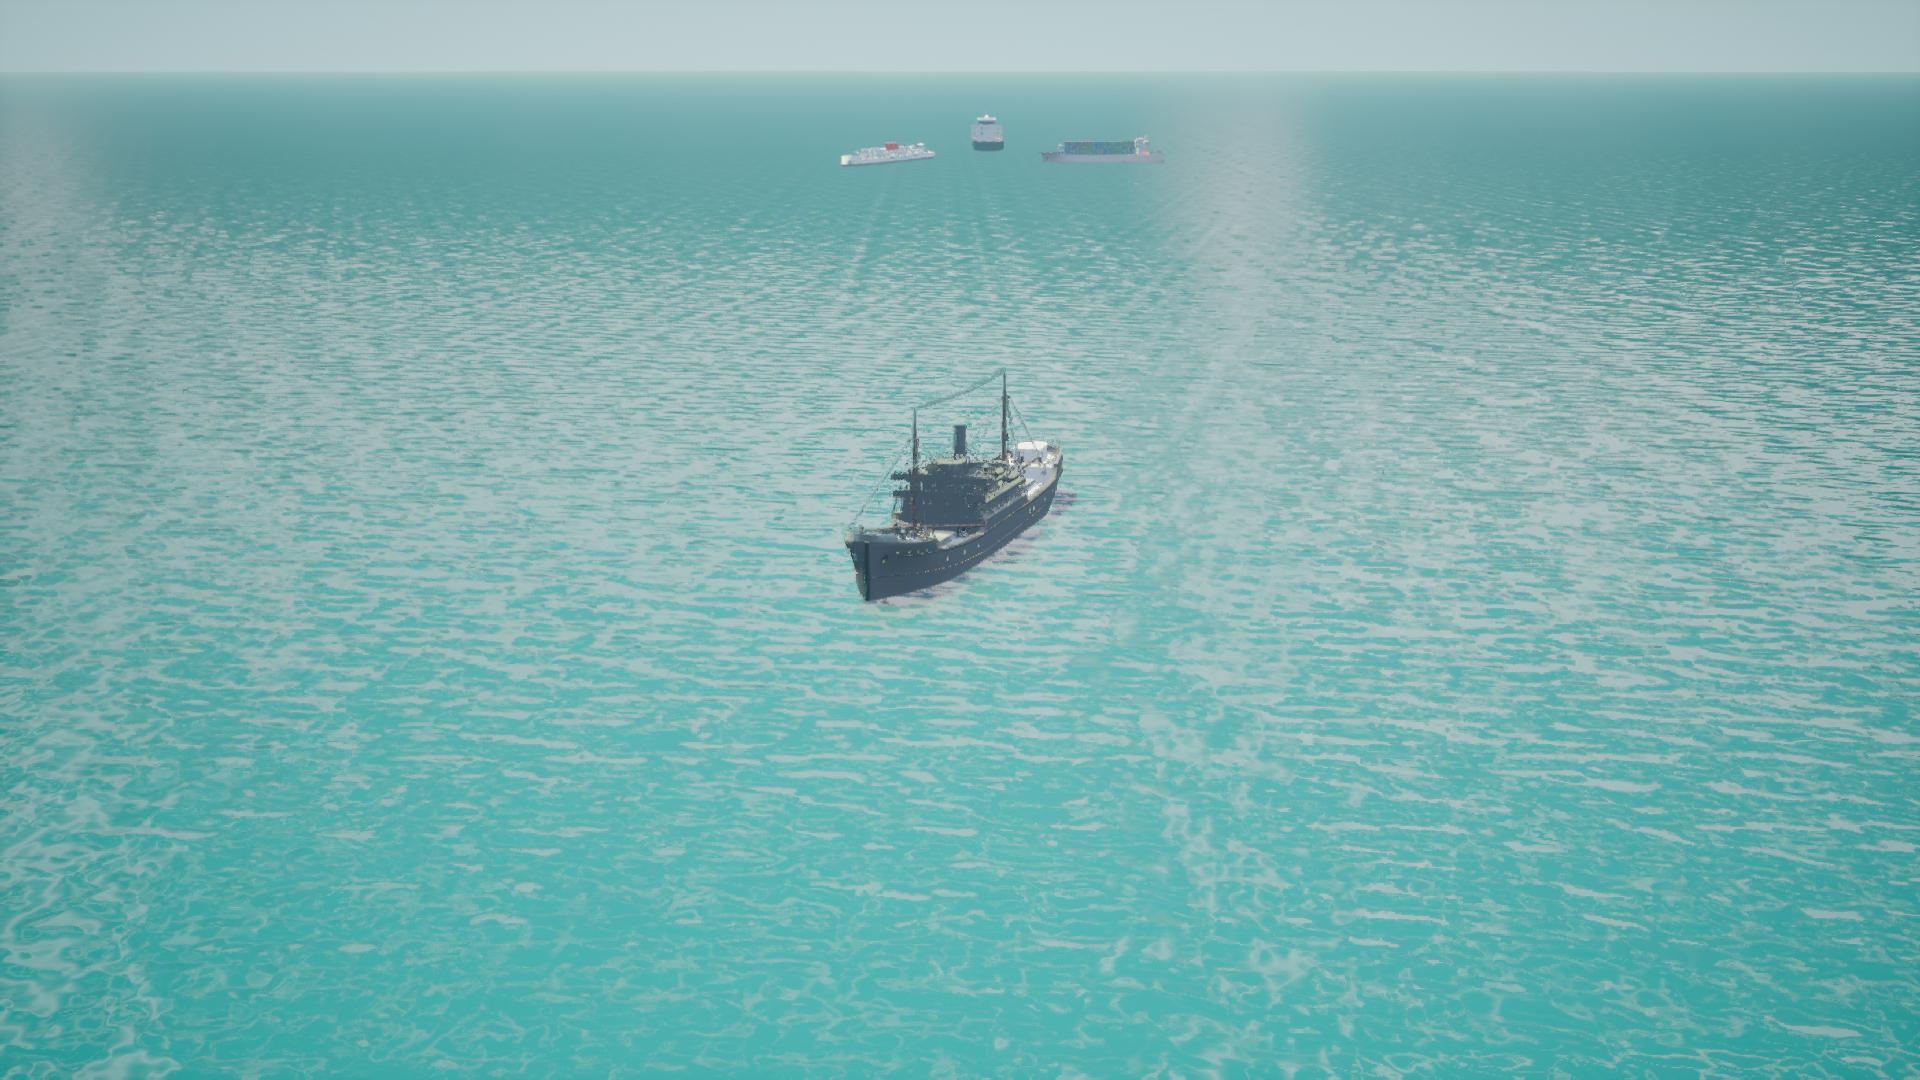Fishing Boat: (841, 400, 1065, 607), (1048, 135, 1163, 164), (841, 142, 939, 169), (972, 116, 1007, 153)
